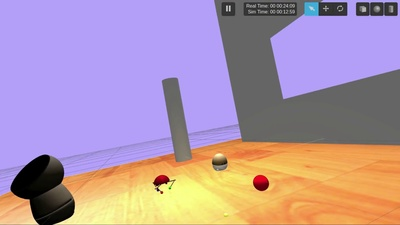mira_robot: (212, 152, 228, 171)
